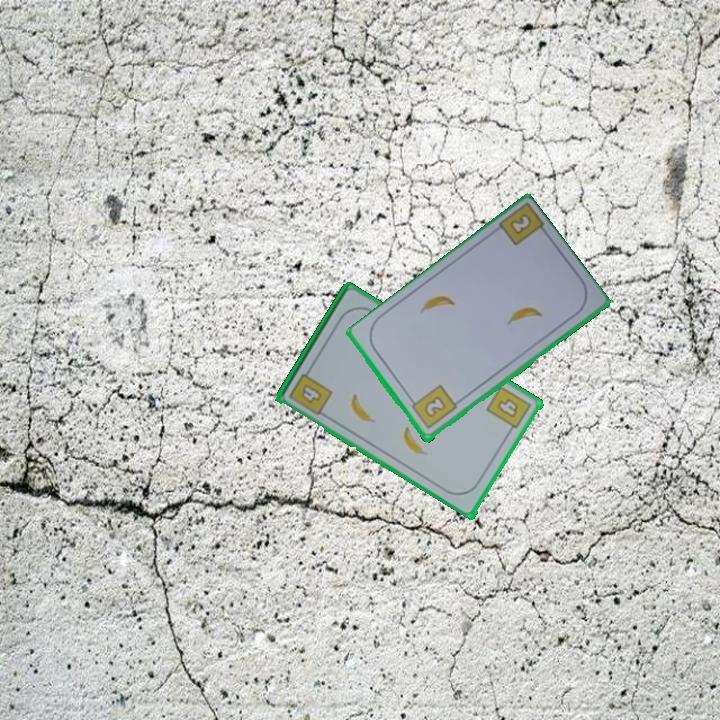2b: (406, 382, 460, 432), (506, 210, 535, 238)
4b: (483, 382, 535, 437), (285, 364, 336, 418)
